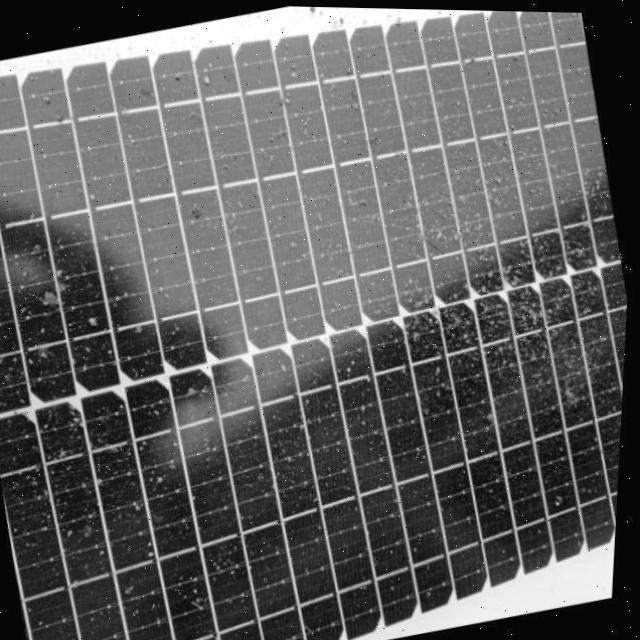Surface Contaminant: (0, 5, 513, 640)
